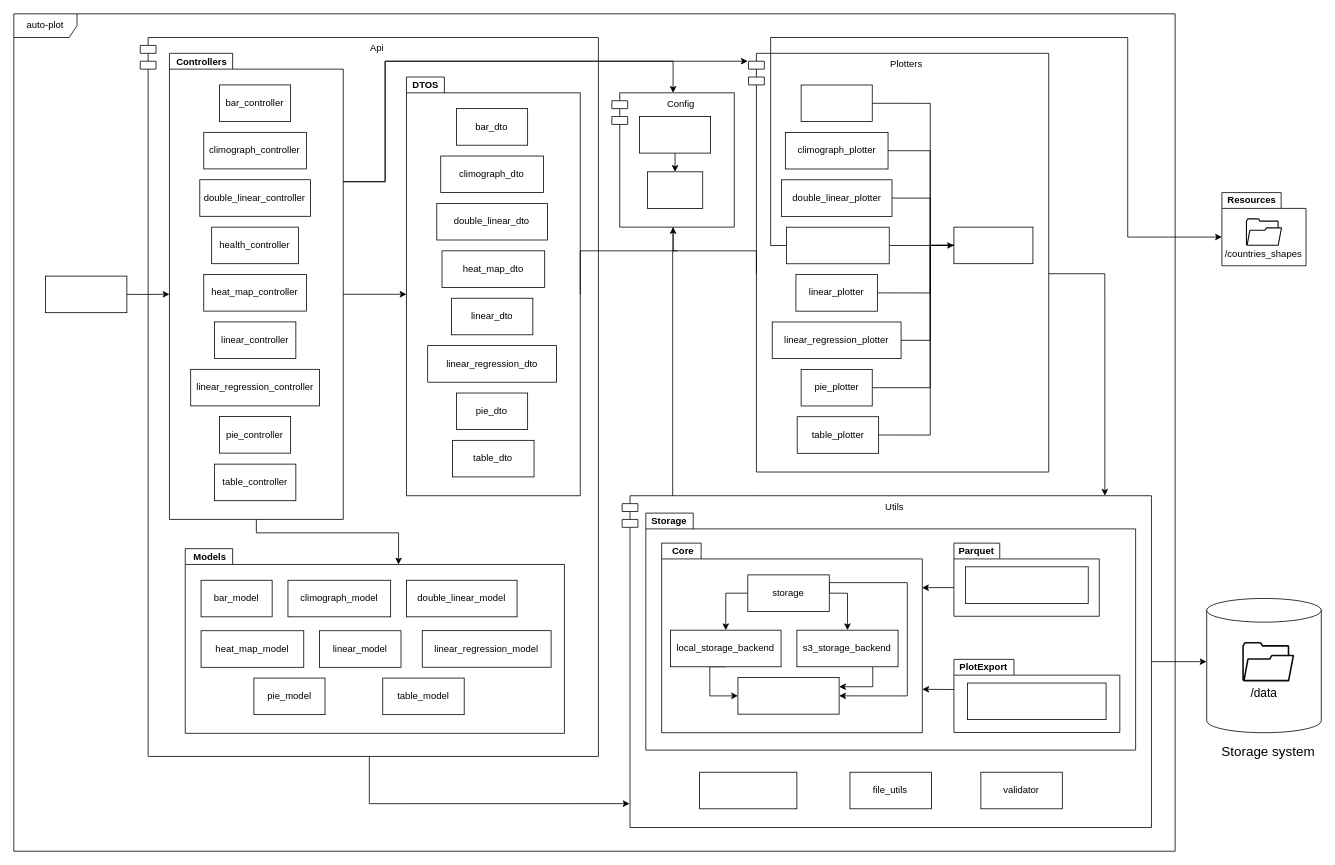
Image size: 1335x865. Some labels were removed from this diagram. Here are the shapes that lost their labels. From the top down, the centre of each, then its label:
(x=836, y=103): bar_plotter
(x=675, y=134): enumerations
(x=675, y=189): constants
(x=837, y=245): heat_map_plotter
(x=993, y=245): abstract_plotter
(x=86, y=294): app
(x=1026, y=584): parquet_storage_backend
(x=788, y=695): storage_exceptions
(x=1036, y=701): plot_export_storage_backend
(x=748, y=790): dataframe_formatter
